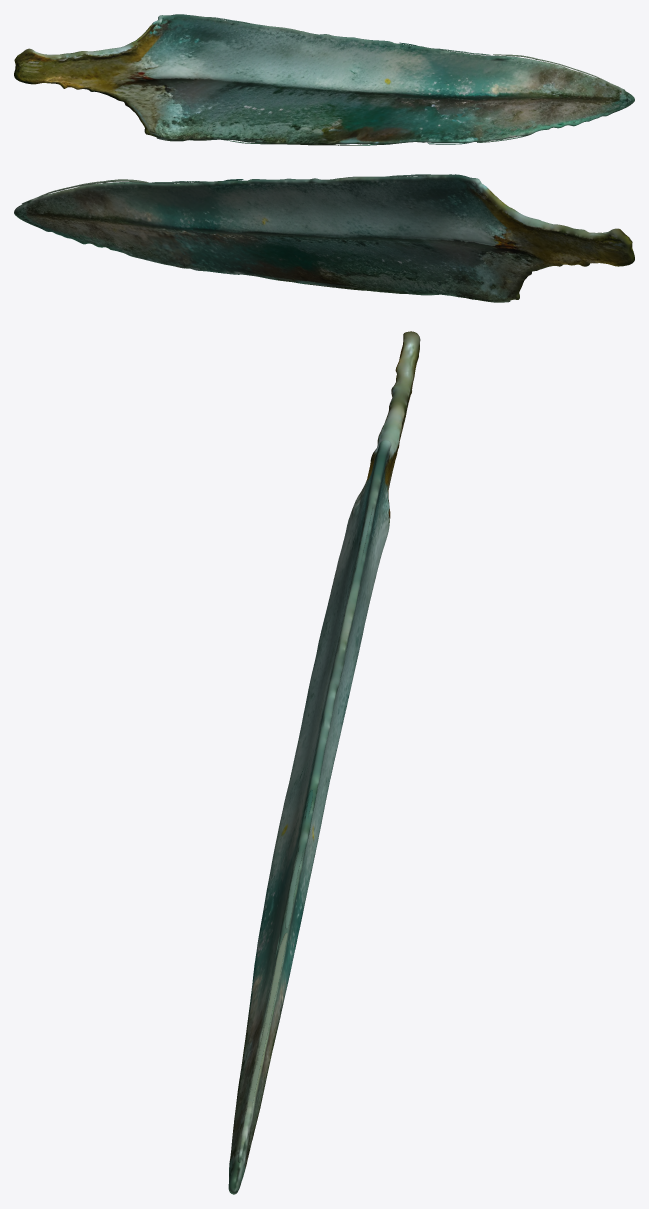
Rendered from 012-arheologicheskiy-bronzovyy-kinzhal.glb.
3 renders of one model, top to bottom at view 1: azimuth 30°, elevation 25°; view 2: azimuth 150°, elevation 25°; view 3: azimuth 270°, elevation 25°, orthographic. The views are drawn at different scales.
Visible parts, largest first — view 1: node_0; view 2: node_0; view 3: node_0.
Part boxes in pixels (x1,y1,x2,y2): node_0: [14, 14, 634, 145]; node_0: [14, 174, 634, 302]; node_0: [228, 331, 420, 1194].
Bounding box in the file's own units: 1.15 × 0.3345 × 0.1661.
Materials: 1 (1 with a texture image).
